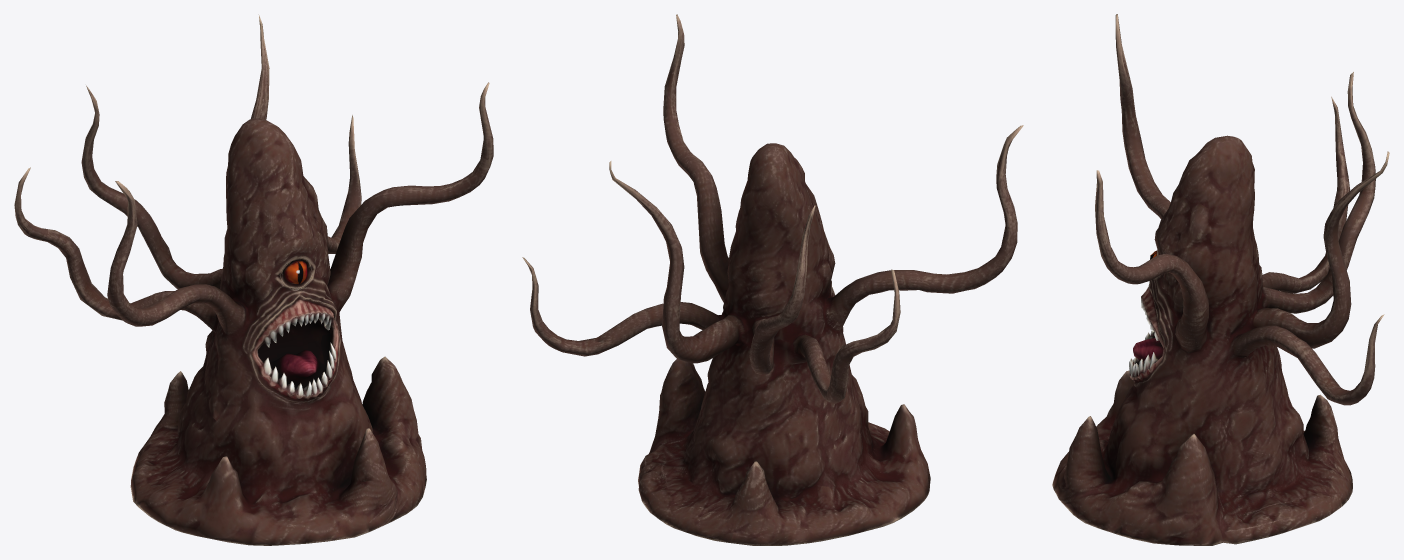
The model's file is MZ4250 - Roper.glb.
The picture shows the model from 3 angles, left to right: view 1: azimuth 30°, elevation 25°; view 2: azimuth 150°, elevation 25°; view 3: azimuth 270°, elevation 25°; orthographic projection. The views are drawn at different scales.
Visible parts, largest first — view 1: roper_low.001; view 2: roper_low.001; view 3: roper_low.001.
Boxes of the visible parts, <box> form: roper_low.001: <box>14,14,493,545</box>; roper_low.001: <box>522,14,1023,545</box>; roper_low.001: <box>1052,14,1389,545</box>.
Size of the model in its own units: 6.47 by 6.61 by 5.18.
1 material, 1 textured.
